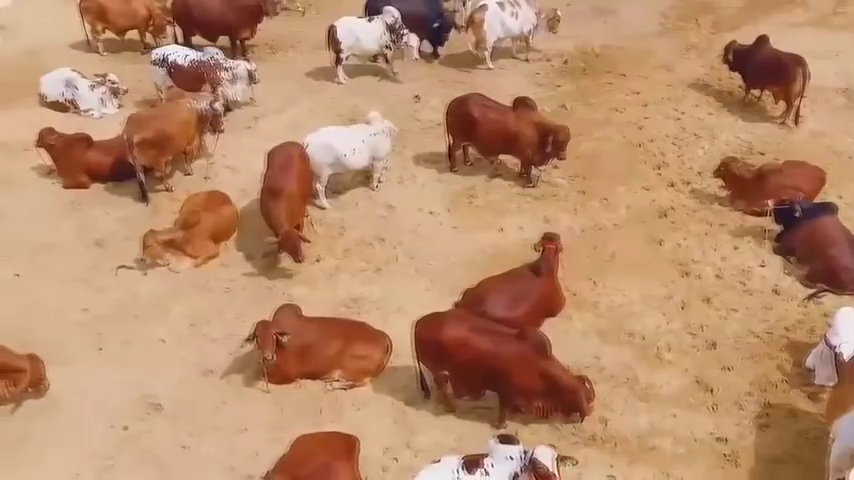bo: (401, 307, 609, 431), (237, 291, 403, 399), (441, 86, 579, 192), (457, 221, 578, 333), (250, 127, 333, 283), (117, 83, 232, 195), (752, 183, 854, 301), (296, 100, 398, 210), (389, 425, 591, 480), (136, 179, 247, 278), (16, 108, 135, 194), (720, 28, 814, 129), (143, 38, 259, 113), (318, 4, 426, 84), (455, 5, 573, 72), (704, 148, 822, 213), (253, 427, 378, 480), (28, 62, 131, 124), (813, 322, 854, 477), (164, 5, 280, 55), (70, 2, 168, 60), (799, 284, 854, 380), (357, 2, 454, 53), (5, 339, 55, 414)
